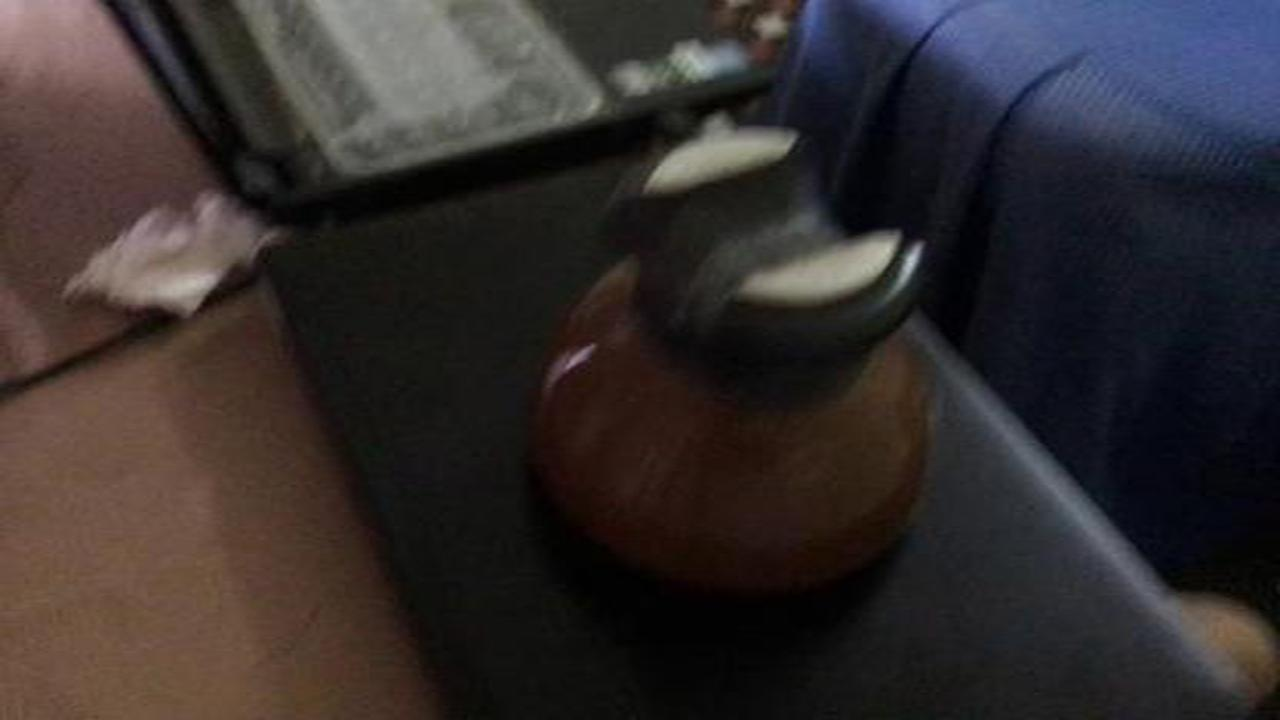insulator_pin: (510, 116, 979, 624)
